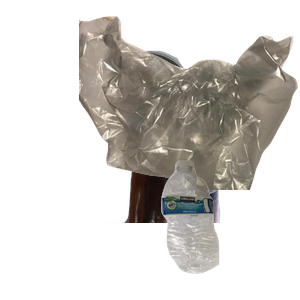glass: (29, 120, 242, 300)
metal: (89, 48, 276, 192)
plastic: (159, 158, 300, 300)
trash: (79, 14, 300, 194)
